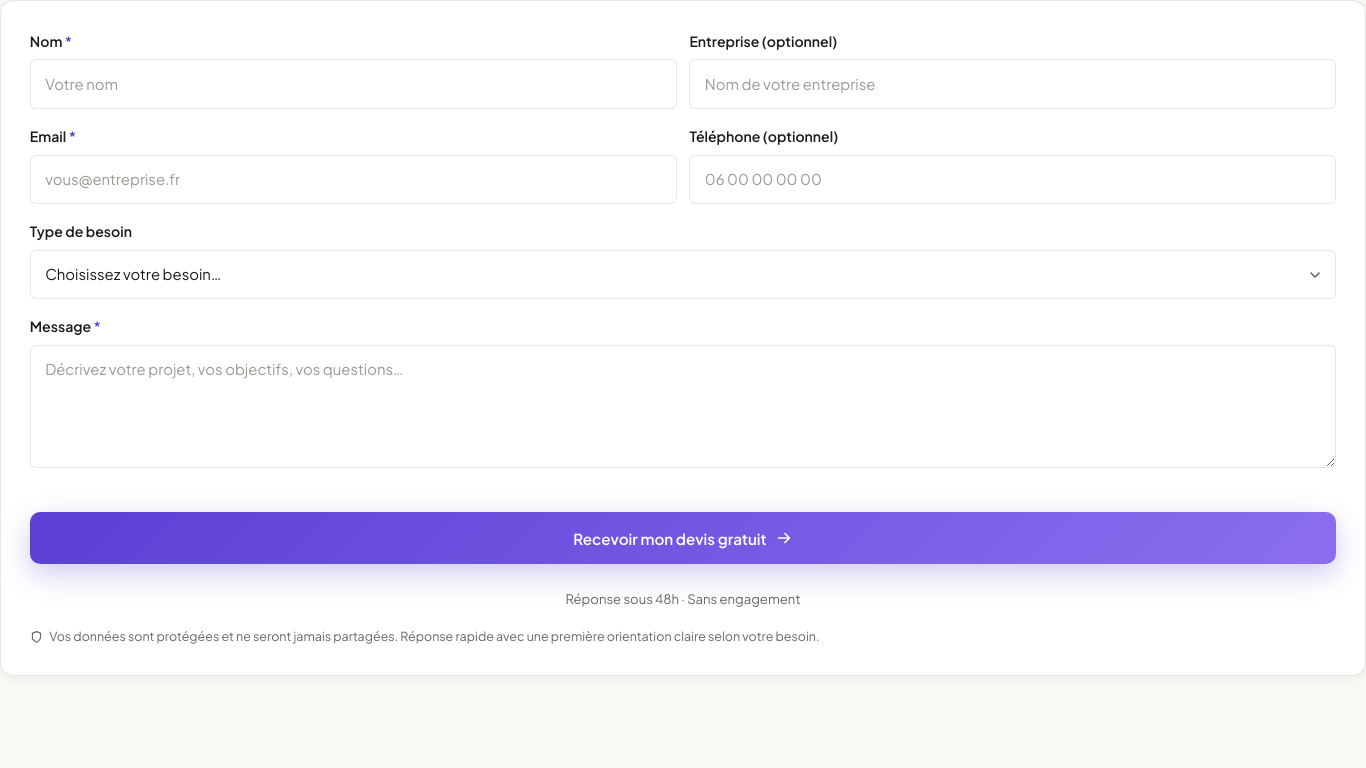
ContactForm › surfaces the server error message on FR when the API returns an error
In the field with placeholder "Votre nom": (353, 84) [30,59,677,109], type "Alice"
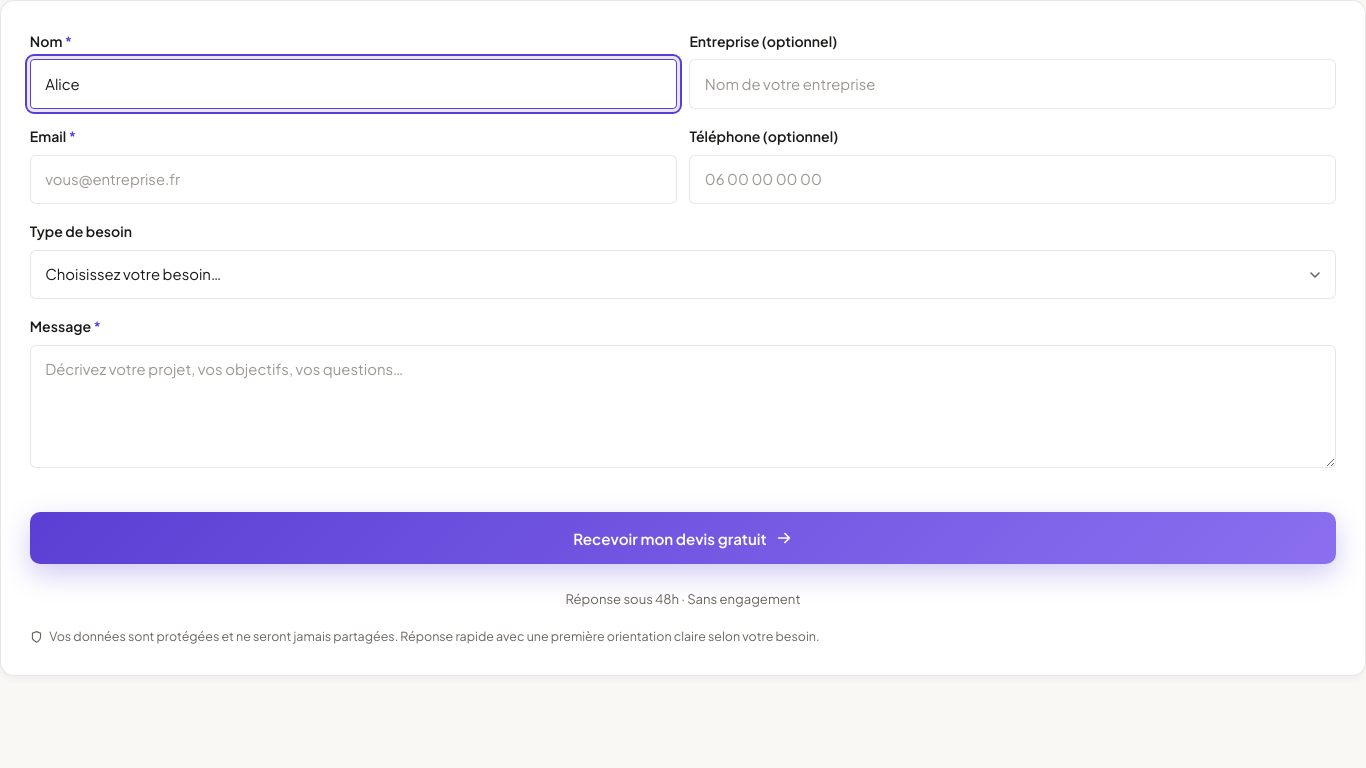
In the field with placeholder "vous@entreprise.fr": (353, 179) [30,155,677,204], type "alice@test.com"
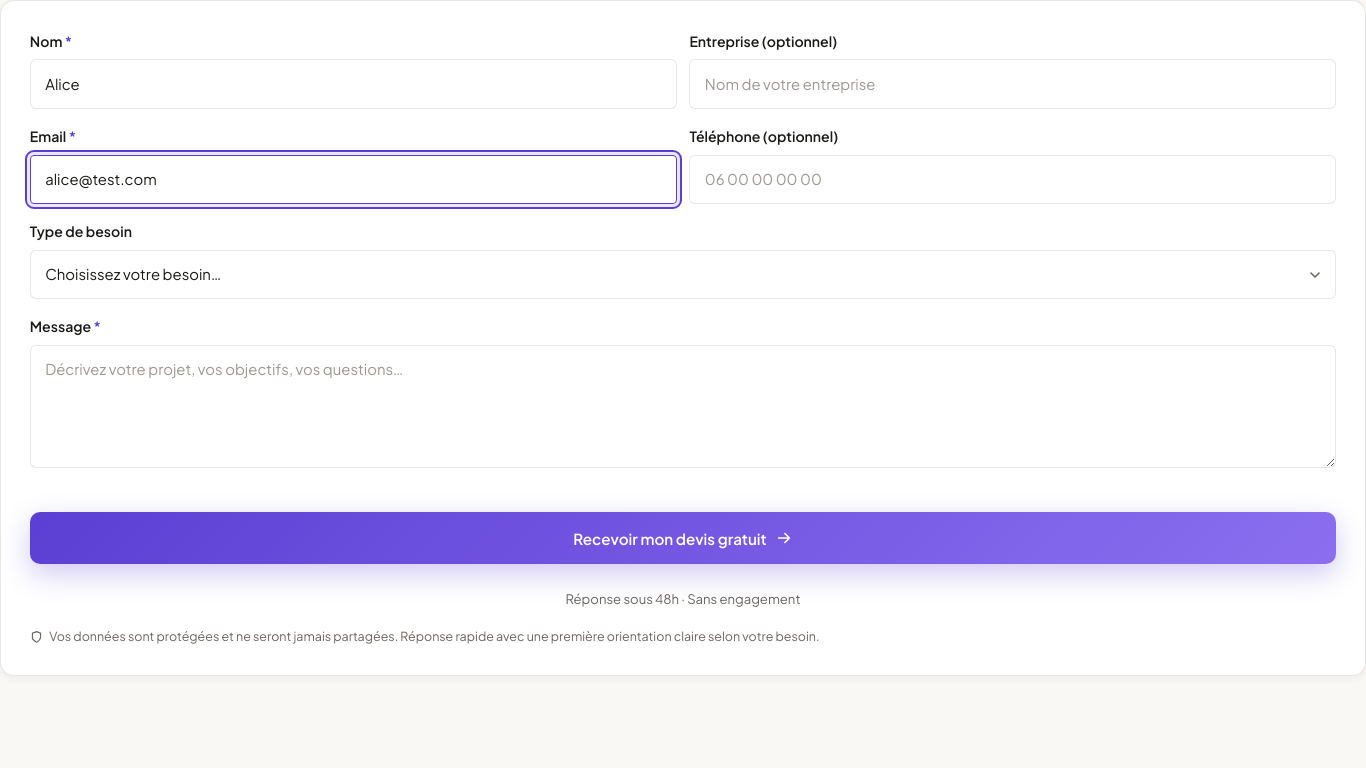
In the text box with placeholder "Décrivez votre projet, vos objectifs, vos questions…": (683, 406) [30,345,1336,468], type "Un message de test suffisamment long."
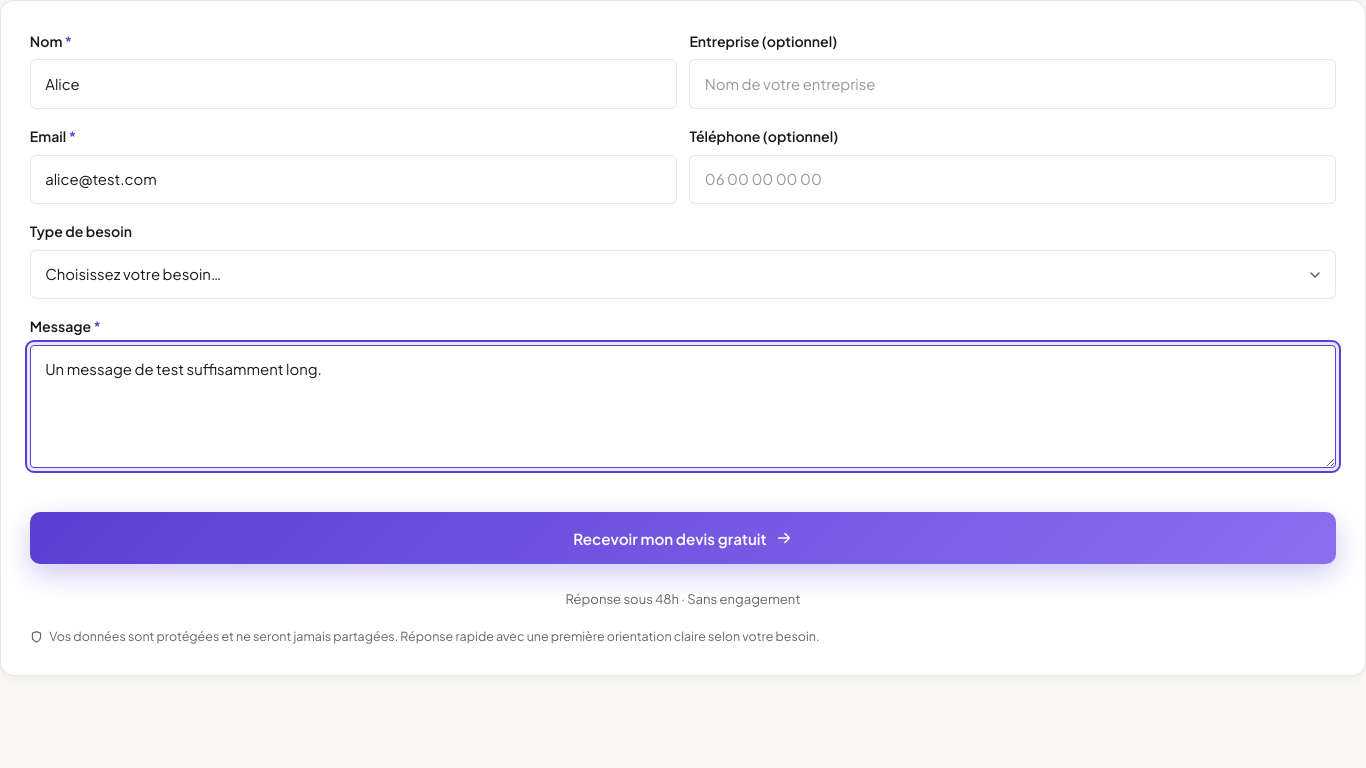
Click the button "Recevoir mon devis gratuit": click(683, 538) [30,512,1336,564]
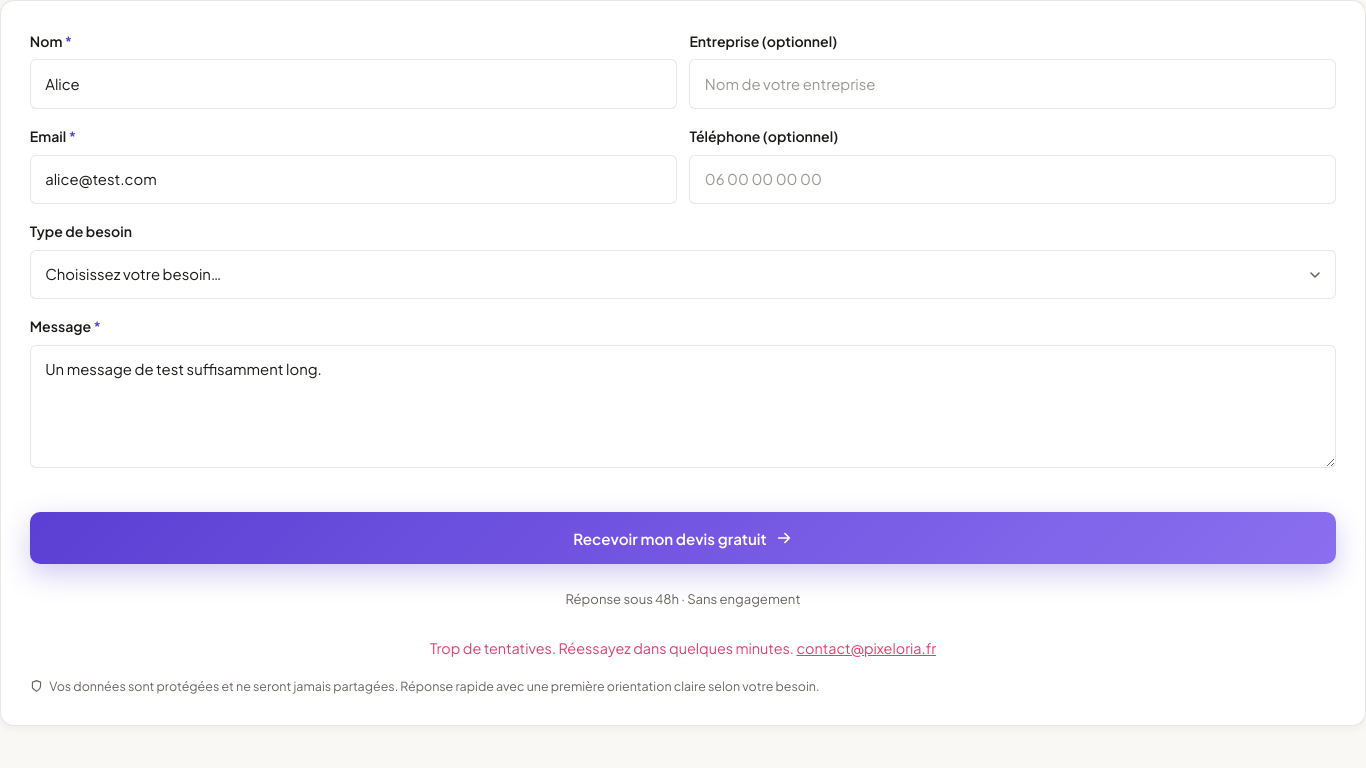
Expected: the message shows "Trop de tentatives. Réessayez dans quelques minutes.", [430,639,794,657]
